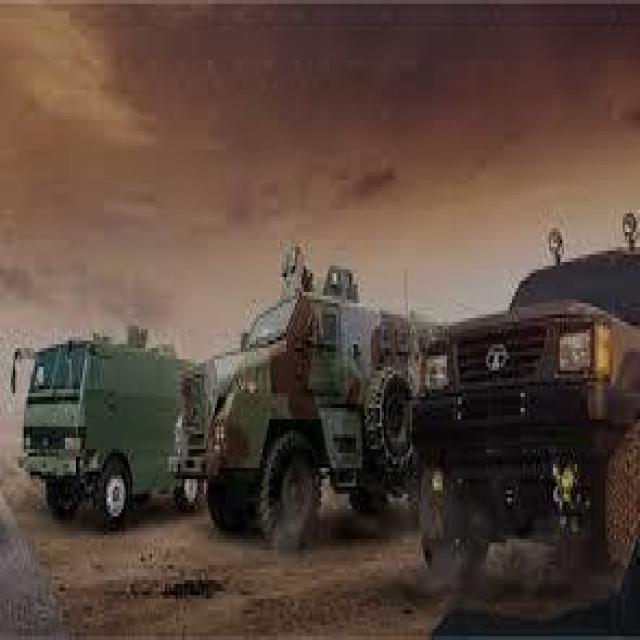Tanks: (413, 165, 632, 606), (164, 268, 441, 567), (18, 251, 210, 595)
